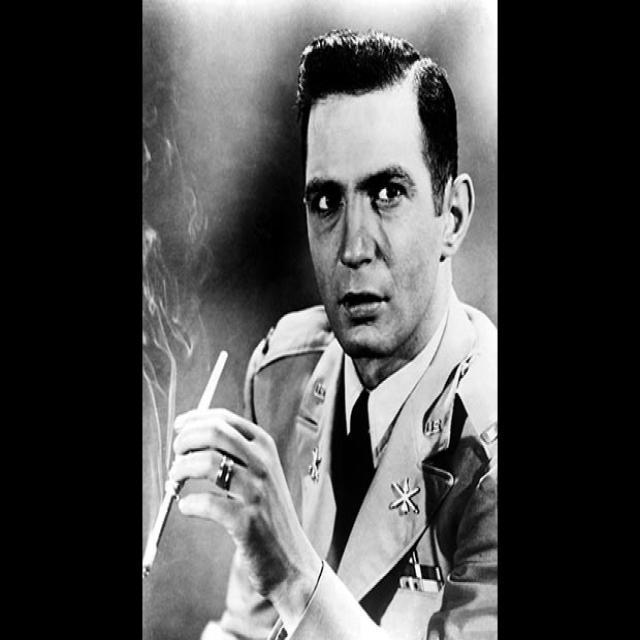rokok: (136, 522, 174, 576)
